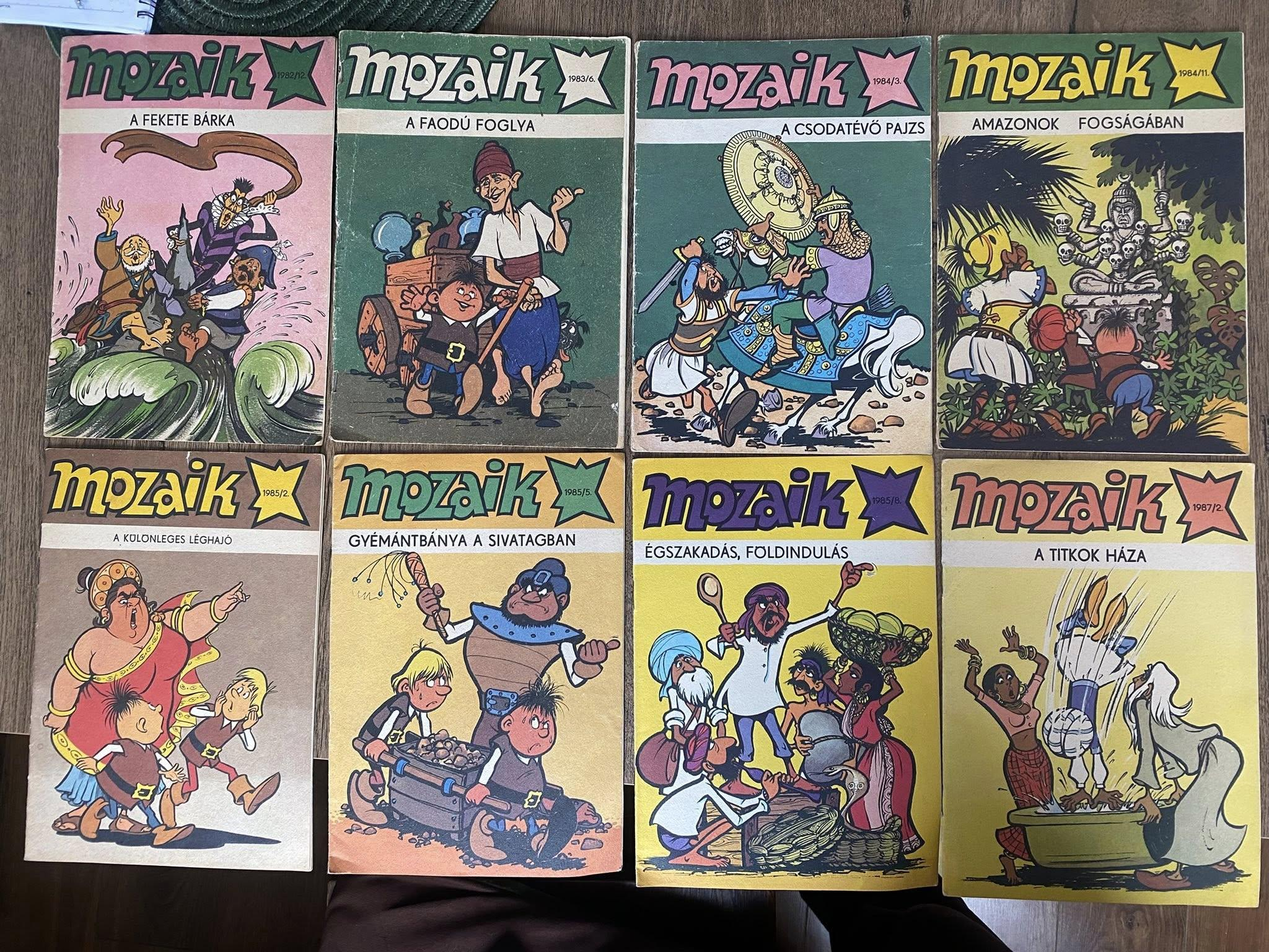comic: (940, 460, 1262, 906), (932, 33, 1248, 457), (632, 456, 940, 890), (325, 447, 631, 878), (26, 446, 325, 870), (330, 31, 631, 450), (631, 37, 932, 453), (45, 32, 334, 444)
